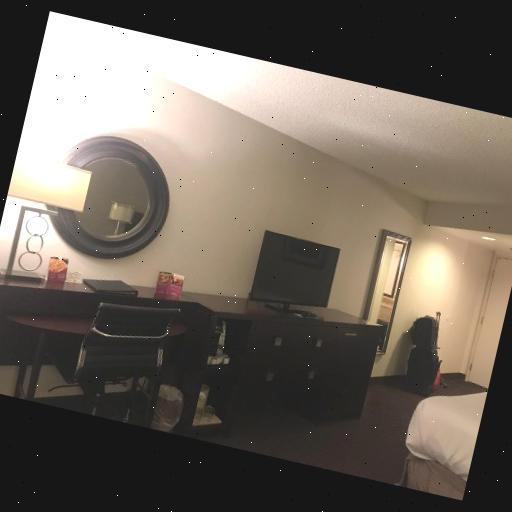chair: (38, 280, 182, 438)
organized table: (175, 286, 380, 426), (0, 269, 188, 311)
